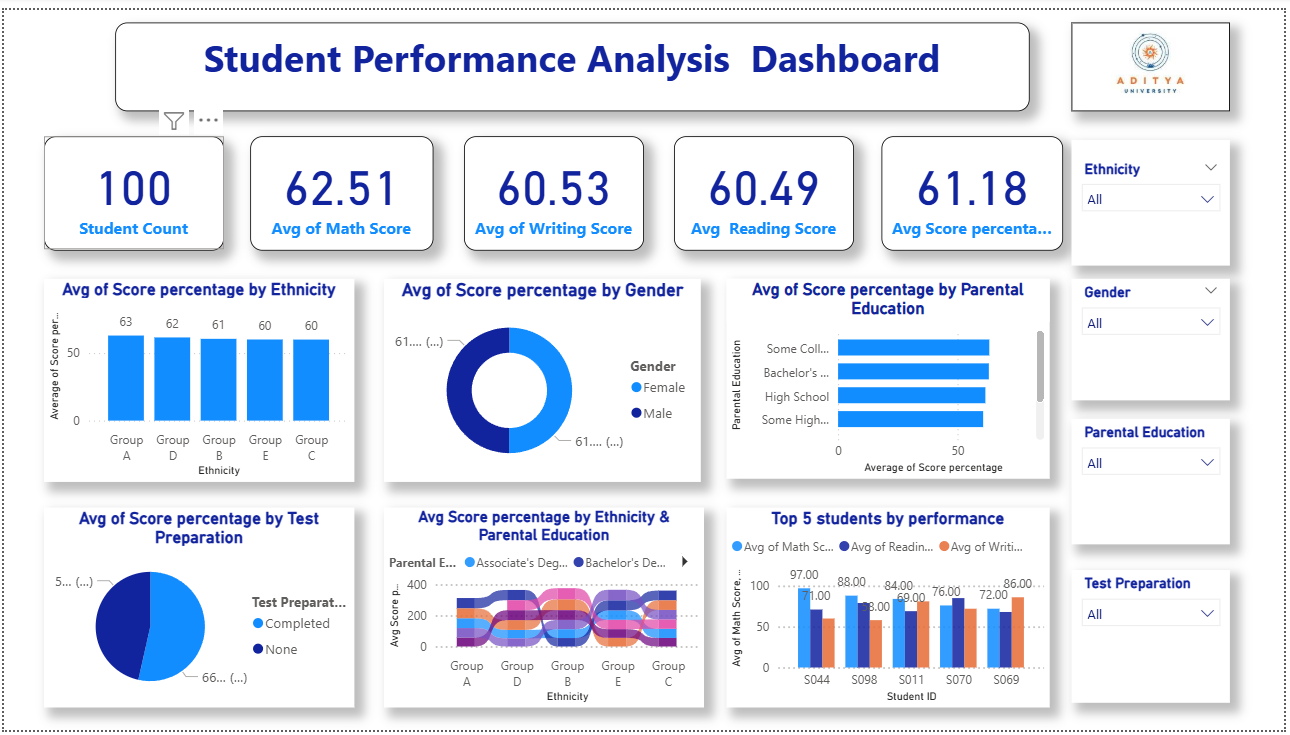

This screenshot's page, from the dashboard's own definition file:
{"tool":"powerbi","page":{"name":"All Subject Dashboard","canvas":[1280,720],"ordinal":0},"visuals":[{"type":"textbox","box":[111.4,12.9,914.3,88.6],"z":0},{"type":"image","box":[1067.1,12.9,158.6,88.6],"z":1000},{"type":"card","fields":{"Values":["Count(Marks.Student ID)"]},"box":[40,125.7,180,114.3],"z":2000},{"type":"card","fields":{"Values":["Avg(Marks.Score percentage)"]},"box":[877.1,125.7,181.4,114.3],"z":3000},{"type":"card","fields":{"Values":["Avg(Marks.Reading Score)"]},"box":[670,125.7,180,114.3],"z":4000},{"type":"card","fields":{"Values":["Avg(Marks.Writing Score)"]},"box":[460,125.7,180,114.3],"z":5000},{"type":"card","fields":{"Values":["Avg(Marks.Math Score)"]},"box":[245.7,125.7,182.9,114.3],"z":6000},{"type":"slicer","fields":{"Values":["Marks.Ethnicity"]},"box":[1067.1,130,158.6,125.7],"z":7000},{"type":"slicer","fields":{"Values":["Marks.Gender"]},"box":[1067.1,268.6,158.6,121.4],"z":8000},{"type":"columnChart","title":"Avg of Score percentage by Ethnicity","fields":{"Category":["Marks.Ethnicity"],"Y":["Avg(Marks.Score percentage)"]},"box":[40,268.6,310,202.9],"z":8001},{"type":"clusteredBarChart","title":"Avg of Score percentage by Parental Education","fields":{"Category":["Marks.Parental Education"],"Y":["Avg(Marks.Score percentage)"]},"box":[722.9,268.6,322.9,200],"z":8002},{"type":"donutChart","title":"Avg of Score percentage by Gender","fields":{"Category":["Marks.Gender"],"Y":["Avg(Marks.Score percentage)"]},"box":[380,268.6,317.1,202.9],"z":8003},{"type":"slicer","fields":{"Values":["Marks.Parental Education"]},"box":[1067.1,408.6,158.6,125.7],"z":8004},{"type":"pieChart","title":"Avg of Score percentage by Test Preparation","fields":{"Category":["Marks.Test Preparation"],"Y":["Avg(Marks.Score percentage)"]},"box":[40,497.1,310,200],"z":8005},{"type":"ribbonChart","title":"Avg Score percentage by Ethnicity & Parental Education","fields":{"Category":["Marks.Ethnicity"],"Series":["Marks.Parental Education"],"Y":["Avg(Marks.Score percentage)"]},"box":[380,497.1,320,200],"z":8006},{"type":"slicer","fields":{"Values":["Marks.Test Preparation"]},"box":[1067.1,560,158.6,132.9],"z":8007},{"type":"clusteredColumnChart","title":"Top 5 students by performance","fields":{"Category":["Marks.Student ID"],"Y":["Avg(Marks.Math Score)","Avg(Marks.Reading Score)","Avg(Marks.Writing Score)"]},"box":[722.9,497.1,322.9,200],"z":8008}]}

Visuals, with their boxes in screenshot pixels (x1, y1, x2, y2), scaled from the page's 1280x720 canvas onto the 1290x735 screenshot:
textbox: <bbox>112, 13, 1034, 104</bbox>
image: <bbox>1075, 13, 1235, 104</bbox>
card - Count(Marks.Student ID): <bbox>40, 128, 222, 245</bbox>
card - Avg(Marks.Score percentage): <bbox>884, 128, 1067, 245</bbox>
card - Avg(Marks.Reading Score): <bbox>675, 128, 857, 245</bbox>
card - Avg(Marks.Writing Score): <bbox>464, 128, 645, 245</bbox>
card - Avg(Marks.Math Score): <bbox>248, 128, 432, 245</bbox>
slicer - Marks.Ethnicity: <bbox>1075, 133, 1235, 261</bbox>
slicer - Marks.Gender: <bbox>1075, 274, 1235, 398</bbox>
"Avg of Score percentage by Ethnicity" columnChart: <bbox>40, 274, 353, 481</bbox>
"Avg of Score percentage by Parental Education" clusteredBarChart: <bbox>729, 274, 1054, 478</bbox>
"Avg of Score percentage by Gender" donutChart: <bbox>383, 274, 703, 481</bbox>
slicer - Marks.Parental Education: <bbox>1075, 417, 1235, 545</bbox>
"Avg of Score percentage by Test Preparation" pieChart: <bbox>40, 507, 353, 712</bbox>
"Avg Score percentage by Ethnicity & Parental Education" ribbonChart: <bbox>383, 507, 705, 712</bbox>
slicer - Marks.Test Preparation: <bbox>1075, 572, 1235, 707</bbox>
"Top 5 students by performance" clusteredColumnChart: <bbox>729, 507, 1054, 712</bbox>
